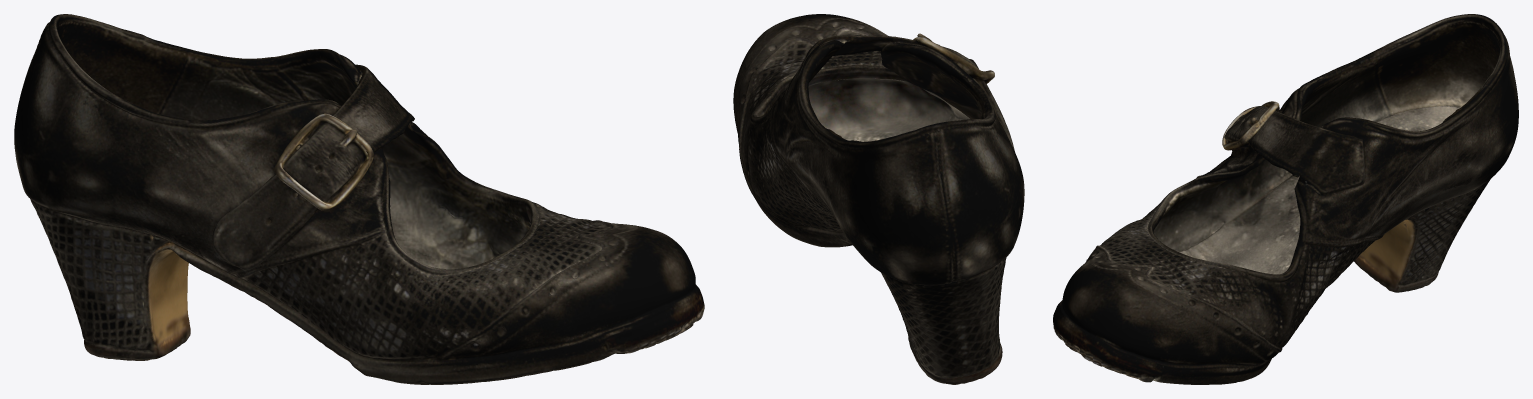
The model's file is zapato.glb.
3 renders of one model, left to right at view 1: azimuth 30°, elevation 25°; view 2: azimuth 150°, elevation 25°; view 3: azimuth 270°, elevation 25°, orthographic. The views are drawn at different scales.
Visible parts, largest first — view 1: Object_2, Object_6, Object_3, Object_5, Object_4; view 2: Object_4, Object_2, Object_5, Object_3, Object_6; view 3: Object_4, Object_6, Object_5, Object_3, Object_2.
Part boxes in pixels (x1,y1,x2,y2): Object_2: (14,15,695,383); Object_6: (57,18,704,370); Object_3: (33,49,539,382); Object_5: (57,16,702,384); Object_4: (32,14,704,384); Object_4: (733,44,996,384); Object_2: (736,15,1024,381); Object_5: (766,37,990,247); Object_3: (733,42,1005,380); Object_6: (735,14,910,141); Object_4: (1053,14,1518,383); Object_6: (1053,30,1502,371); Object_5: (1055,20,1504,384); Object_3: (1135,63,1492,383); Object_2: (1053,14,1494,373).
Bounding box in the file's own units: 183 × 114 × 191.
1 material, 1 textured.
